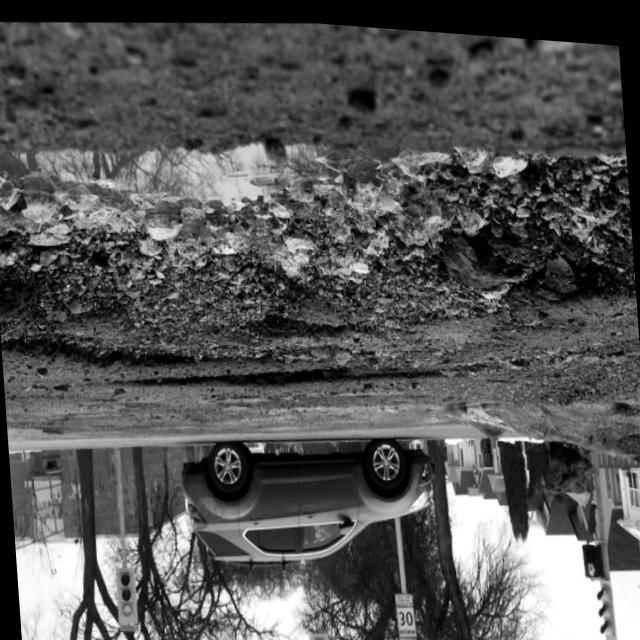pathole: (0, 140, 640, 391), (105, 364, 367, 386), (372, 366, 402, 376), (125, 357, 150, 367)
